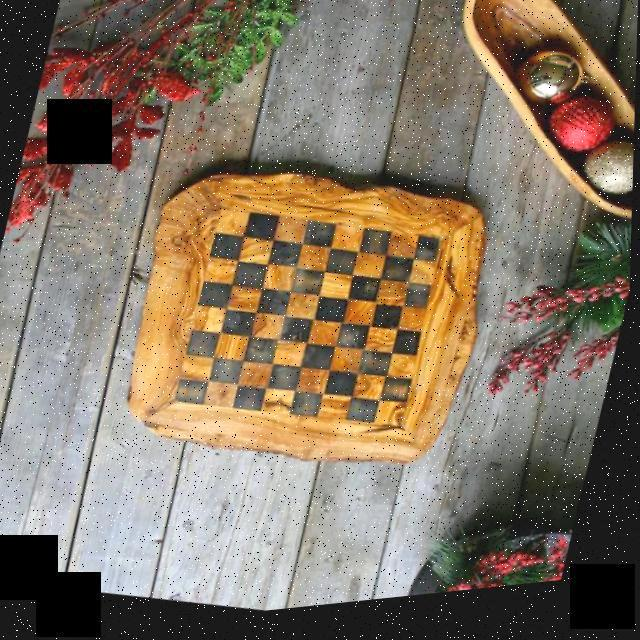chess-table-corners: (158, 376, 198, 421), (417, 222, 458, 264), (208, 192, 248, 232), (382, 412, 420, 449)
